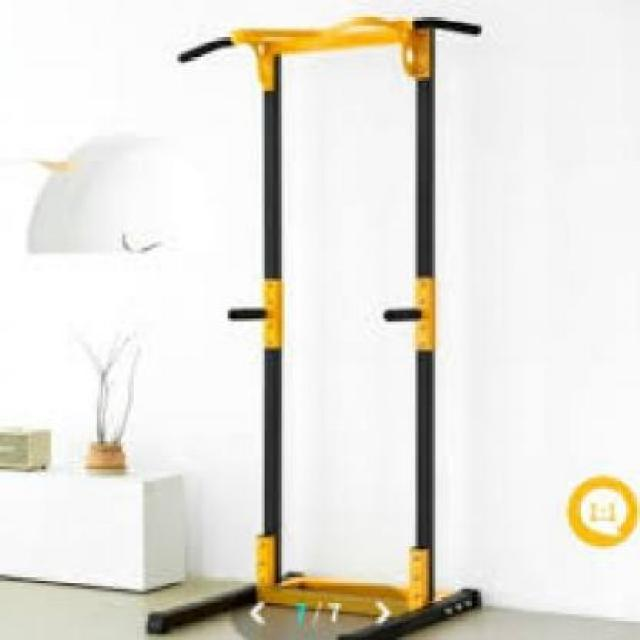chinning dipping: (151, 12, 483, 640)
